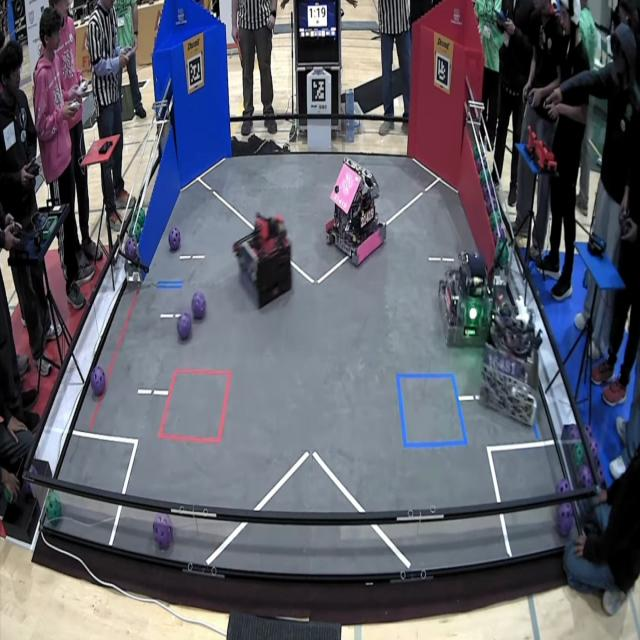artifact_green: (45, 492, 62, 522), (496, 235, 508, 266), (498, 238, 510, 268), (491, 213, 503, 242), (484, 167, 496, 196), (563, 424, 580, 443), (588, 436, 599, 464), (129, 216, 145, 235), (573, 442, 585, 467), (596, 462, 606, 487), (490, 209, 500, 233), (556, 479, 571, 494), (488, 210, 495, 239), (485, 196, 494, 216), (134, 211, 145, 225), (4, 486, 13, 503), (133, 225, 141, 243), (494, 202, 501, 222), (25, 480, 33, 497), (484, 168, 492, 184), (480, 170, 489, 184), (138, 208, 145, 224), (475, 159, 482, 174), (133, 228, 140, 243), (128, 221, 135, 236), (128, 224, 135, 238), (492, 232, 499, 246), (129, 217, 136, 230), (136, 220, 143, 233), (136, 220, 144, 231), (130, 216, 137, 228), (474, 146, 480, 159), (487, 205, 492, 220), (128, 227, 134, 237), (473, 147, 478, 159)
artifact_purple: (153, 514, 173, 550), (557, 504, 574, 537), (177, 313, 192, 341), (91, 366, 105, 396), (578, 465, 594, 489), (192, 292, 206, 319), (125, 237, 137, 260), (589, 438, 599, 464), (596, 461, 606, 487), (169, 228, 180, 251), (565, 424, 579, 440), (486, 185, 495, 209), (556, 479, 570, 494), (585, 424, 594, 439), (25, 481, 33, 496), (476, 158, 483, 174), (483, 184, 489, 200)
